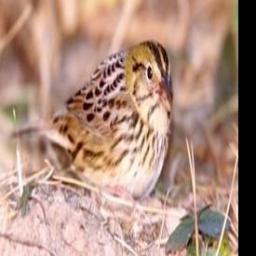Sparrow: (9, 36, 174, 207)
